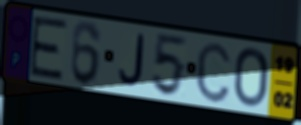5: (152, 30, 190, 98)
6: (70, 19, 102, 89)
C: (194, 39, 233, 105)
E: (28, 15, 70, 82)
J: (117, 33, 146, 89)
O: (233, 46, 270, 109)
